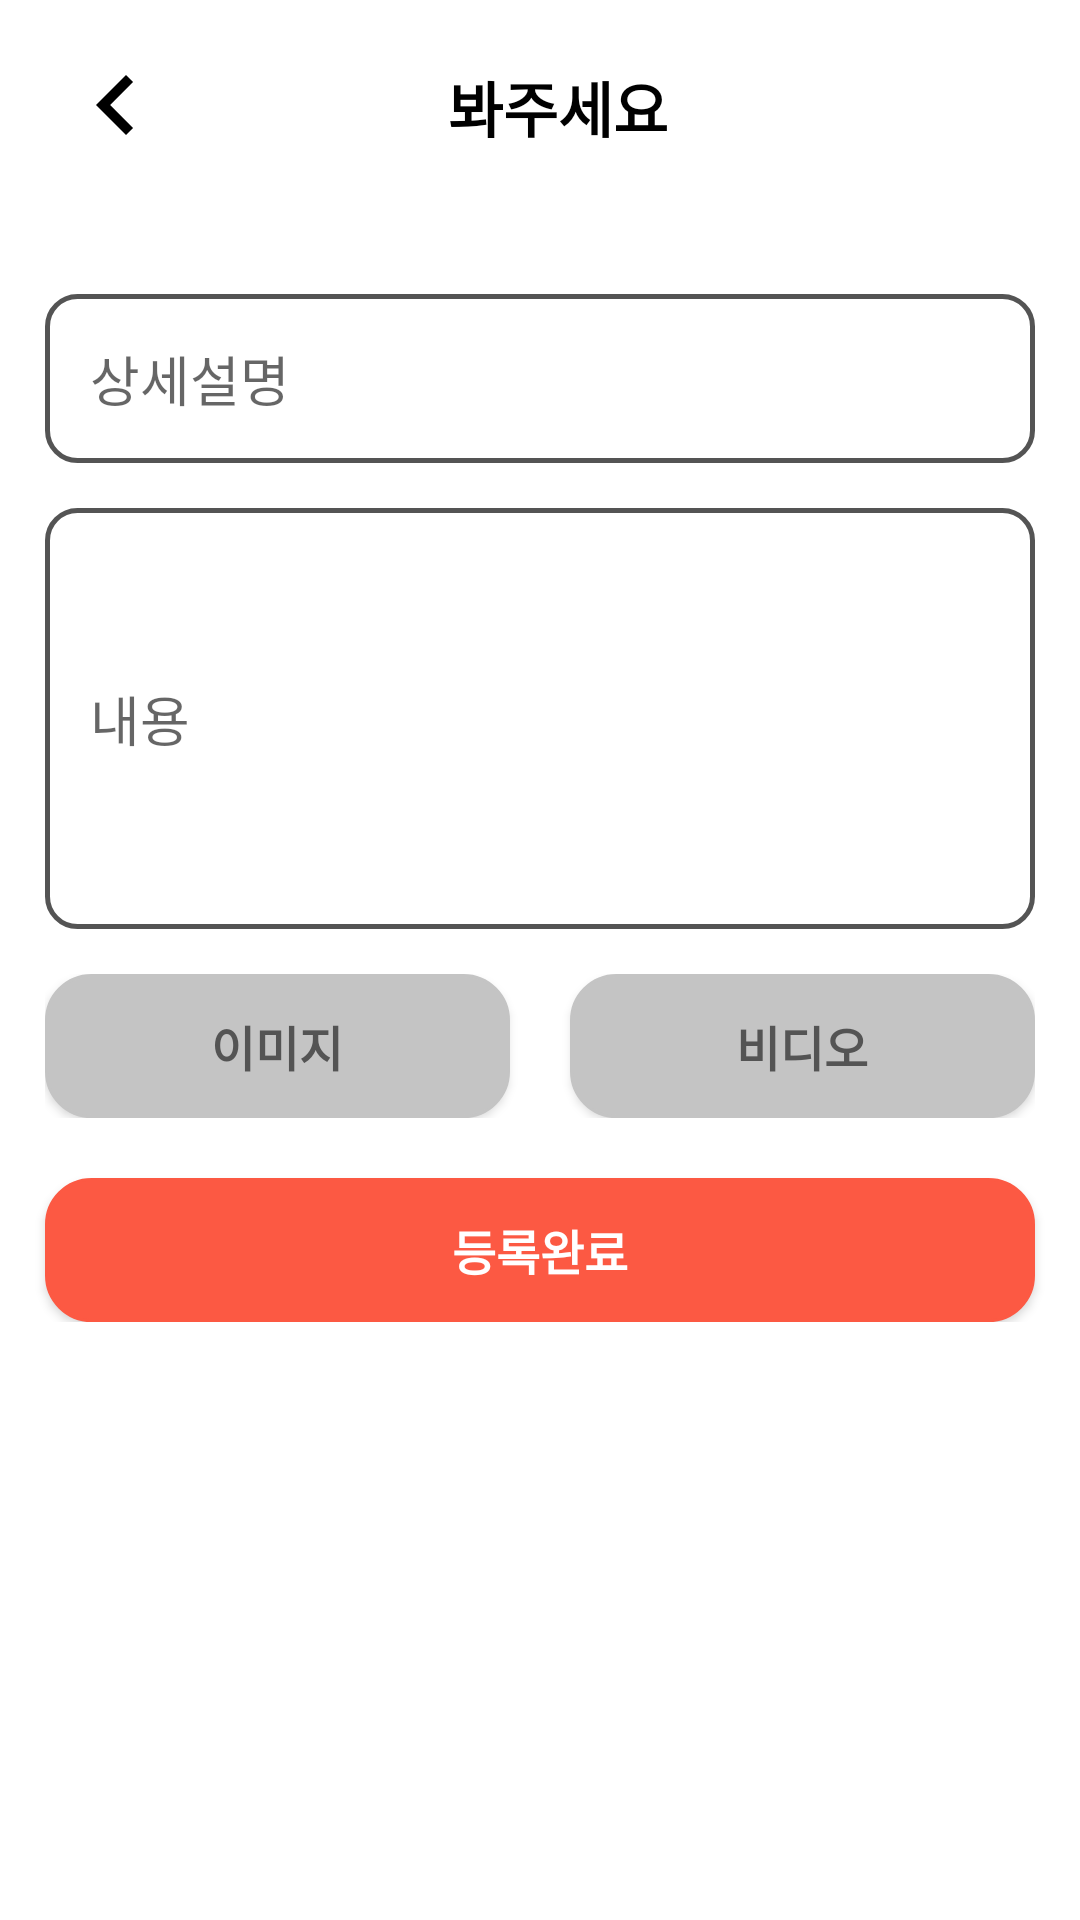

Point at icon controls on the screen. Image size 1080*1920, points as [x,y].
navigate before: [114,105]
